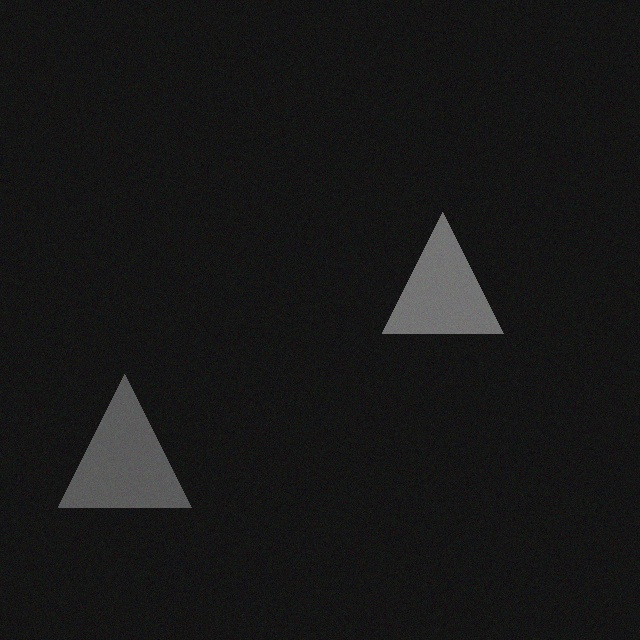triangle: (46, 386, 179, 519), (370, 224, 491, 345)
